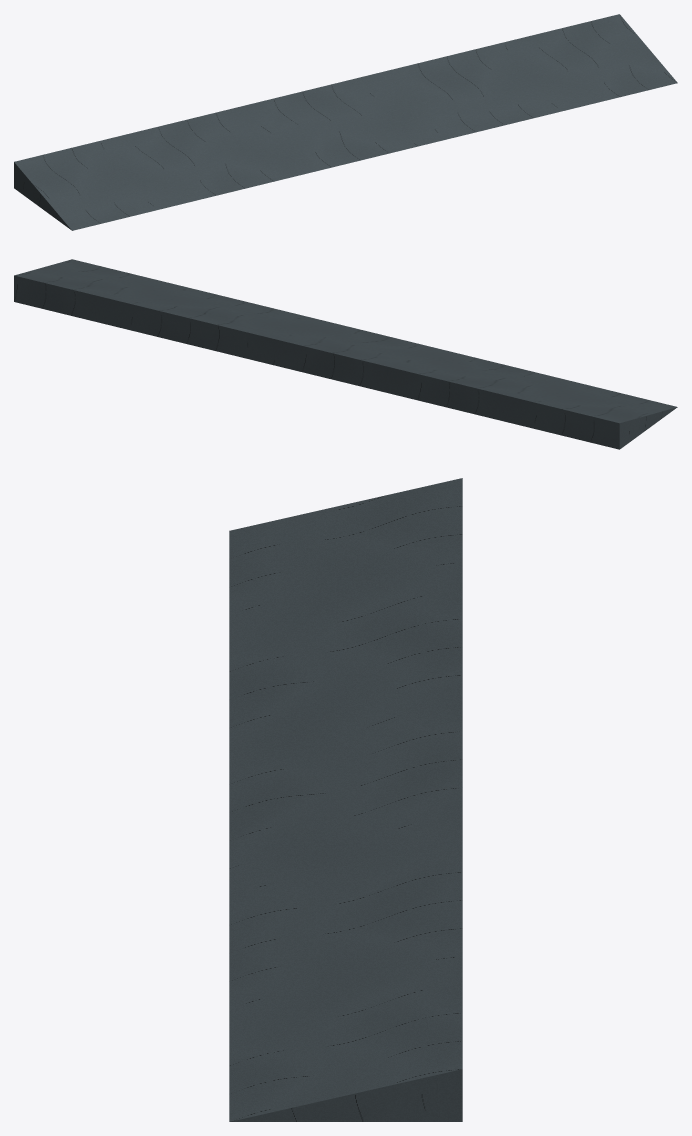
Rendered from Core_Entry.fbx.
3 views of the same model, one above another, from view 1: azimuth 30°, elevation 25°; view 2: azimuth 150°, elevation 25°; view 3: azimuth 270°, elevation 25° (orthographic). The views are drawn at different scales.
Visible parts, largest first — view 1: COL_Foundry_Core_Entry_00_Both; view 2: COL_Foundry_Core_Entry_00_Both; view 3: COL_Foundry_Core_Entry_00_Both.
Part boxes in pixels (x1,y1,x2,y2): COL_Foundry_Core_Entry_00_Both: [14, 14, 677, 230]; COL_Foundry_Core_Entry_00_Both: [14, 259, 677, 449]; COL_Foundry_Core_Entry_00_Both: [229, 478, 462, 1121].
Size of what is drawn, in the model's own units: 6 by 0.25 by 1.
